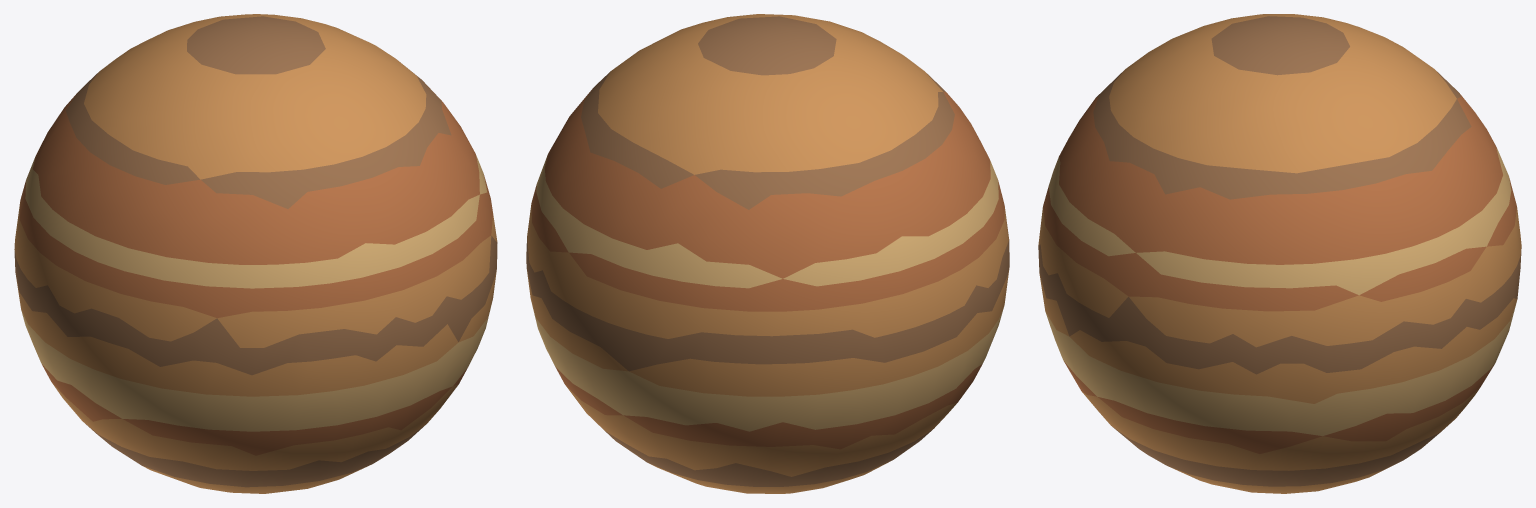
File: Planet_6_Sphere.obj
The picture shows the model from 3 angles, left to right: view 1: azimuth 30°, elevation 25°; view 2: azimuth 150°, elevation 25°; view 3: azimuth 270°, elevation 25°; orthographic projection.
Parts seen in each view (by area): view 1: Planet_6_Sphere.004; view 2: Planet_6_Sphere.004; view 3: Planet_6_Sphere.004.
Part boxes in pixels (x1=…): Planet_6_Sphere.004: x1=14, y1=14, x2=497, y2=493; Planet_6_Sphere.004: x1=526, y1=14, x2=1009, y2=493; Planet_6_Sphere.004: x1=1038, y1=14, x2=1521, y2=493.
Bounding box in the file's own units: 3.76 × 3.75 × 3.76.
